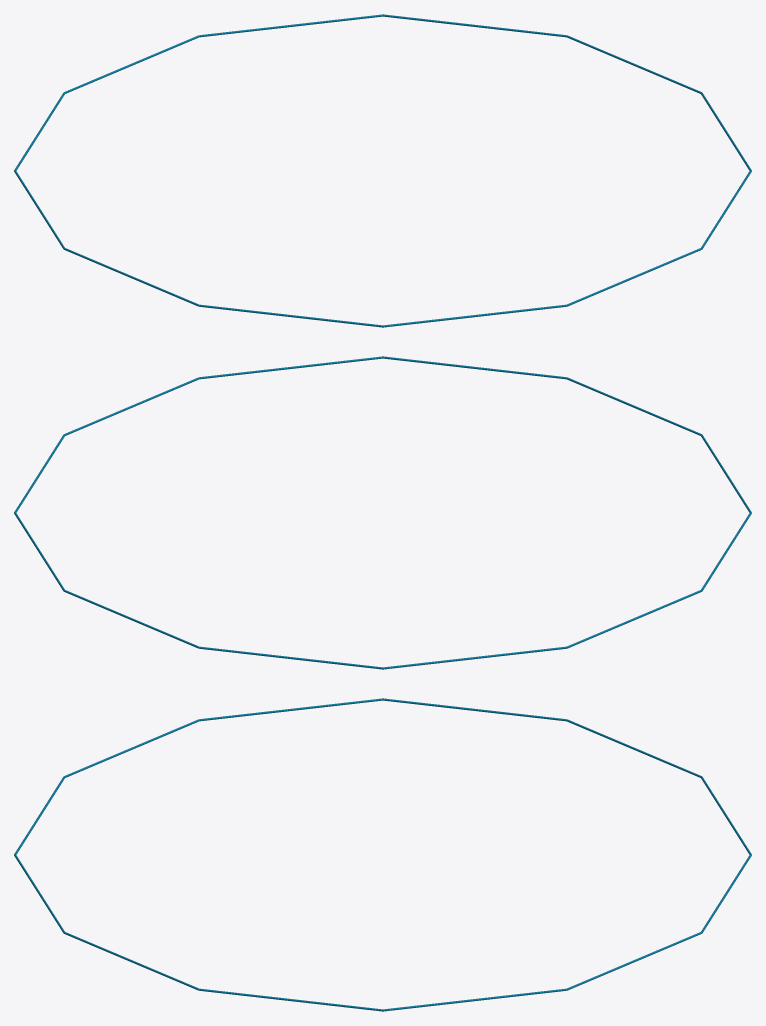
File: range_ground.obj
The picture shows the model from 3 angles, top to bottom: view 1: azimuth 30°, elevation 25°; view 2: azimuth 150°, elevation 25°; view 3: azimuth 270°, elevation 25°; orthographic projection.
Parts seen in each view (by area): view 1: Range_segment.006, Range_segment.007, Range_segment, Range_segment.001; view 2: Range_segment.010, Range_segment.011, Range_segment.004, Range_segment.005; view 3: Range_segment.002, Range_segment.003, Range_segment.008, Range_segment.009.
Boxes of the visible parts, x1=… form: Range_segment.006: x1=383, y1=304, x2=567, y2=327; Range_segment.007: x1=198, y1=304, x2=382, y2=327; Range_segment: x1=199, y1=14, x2=382, y2=37; Range_segment.001: x1=383, y1=14, x2=566, y2=37; Range_segment.010: x1=383, y1=646, x2=567, y2=669; Range_segment.011: x1=198, y1=646, x2=382, y2=669; Range_segment.004: x1=199, y1=356, x2=382, y2=379; Range_segment.005: x1=383, y1=356, x2=566, y2=379; Range_segment.002: x1=383, y1=988, x2=567, y2=1011; Range_segment.003: x1=198, y1=988, x2=382, y2=1011; Range_segment.008: x1=199, y1=698, x2=382, y2=721; Range_segment.009: x1=383, y1=698, x2=566, y2=721.
Size of the model in its own units: 2.01 by 0.006 by 2.01.
